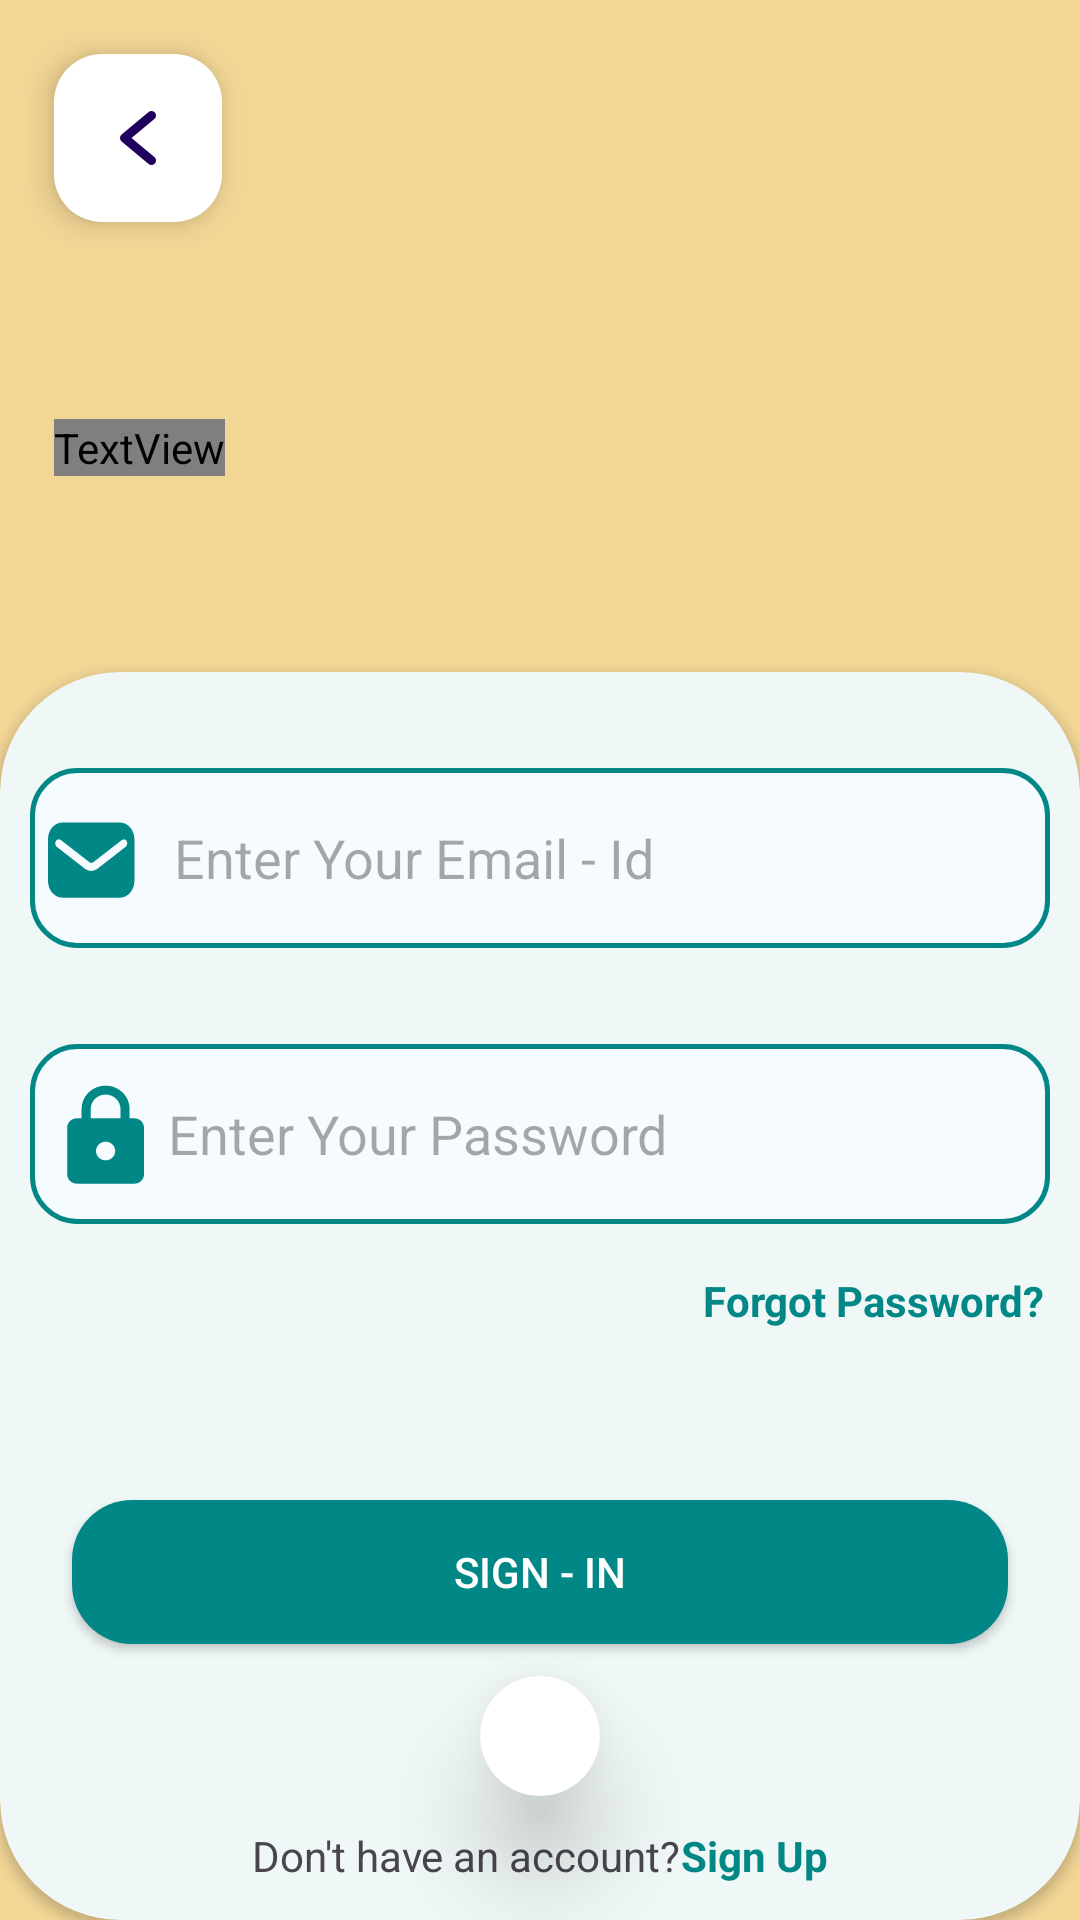

Point at icon controls on the screen. Image size 1080 × 1920, points as (x=x, y=y).
back: (x=138, y=138)
